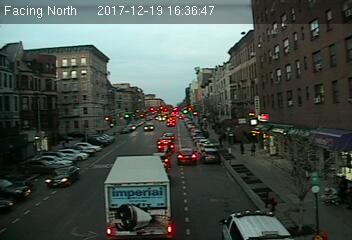car: (45, 166, 81, 188), (176, 148, 198, 164), (202, 149, 219, 162), (157, 140, 175, 151), (162, 133, 175, 140)
police: (219, 203, 292, 240)
truck: (102, 153, 176, 236)
